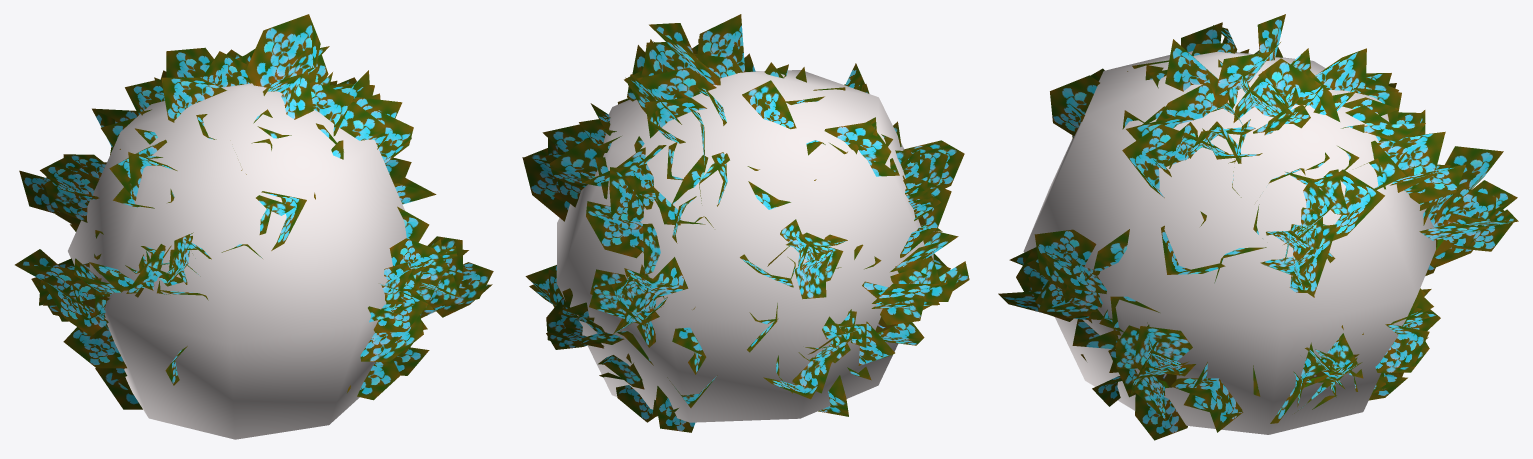
File: Homeworld_Exterior_Common_Plant_Grass_17_Lod0.fbx
The picture shows the model from 3 angles, left to right: view 1: azimuth 30°, elevation 25°; view 2: azimuth 150°, elevation 25°; view 3: azimuth 270°, elevation 25°; orthographic projection. The views are drawn at different scales.
Parts seen in each view (by area): view 1: EffectMesh, Area_Ly_Grass_Common_Sapling_05_Lod0; view 2: EffectMesh, Area_Ly_Grass_Common_Sapling_05_Lod0; view 3: EffectMesh, Area_Ly_Grass_Common_Sapling_05_Lod0.
Boxes of the visible parts, box(x1,y1,x2,y2) form: EffectMesh: box(68, 83, 406, 439); Area_Ly_Grass_Common_Sapling_05_Lod0: box(15, 14, 493, 409); EffectMesh: box(556, 70, 933, 422); Area_Ly_Grass_Common_Sapling_05_Lod0: box(522, 14, 969, 432); EffectMesh: box(1023, 51, 1435, 434); Area_Ly_Grass_Common_Sapling_05_Lod0: box(998, 14, 1518, 440).
Bounding box in the file's own units: 4.79 × 4.35 × 4.7.
